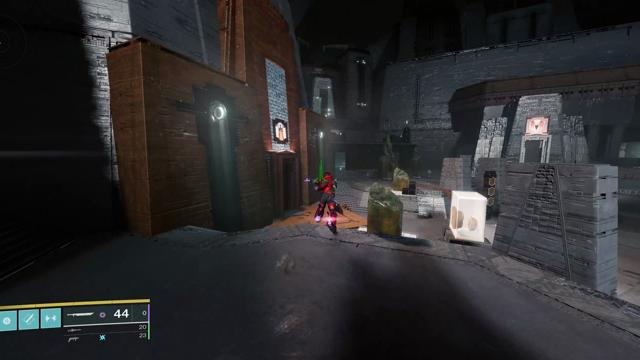give: (530, 120, 544, 132)
worship: (275, 122, 286, 141)
